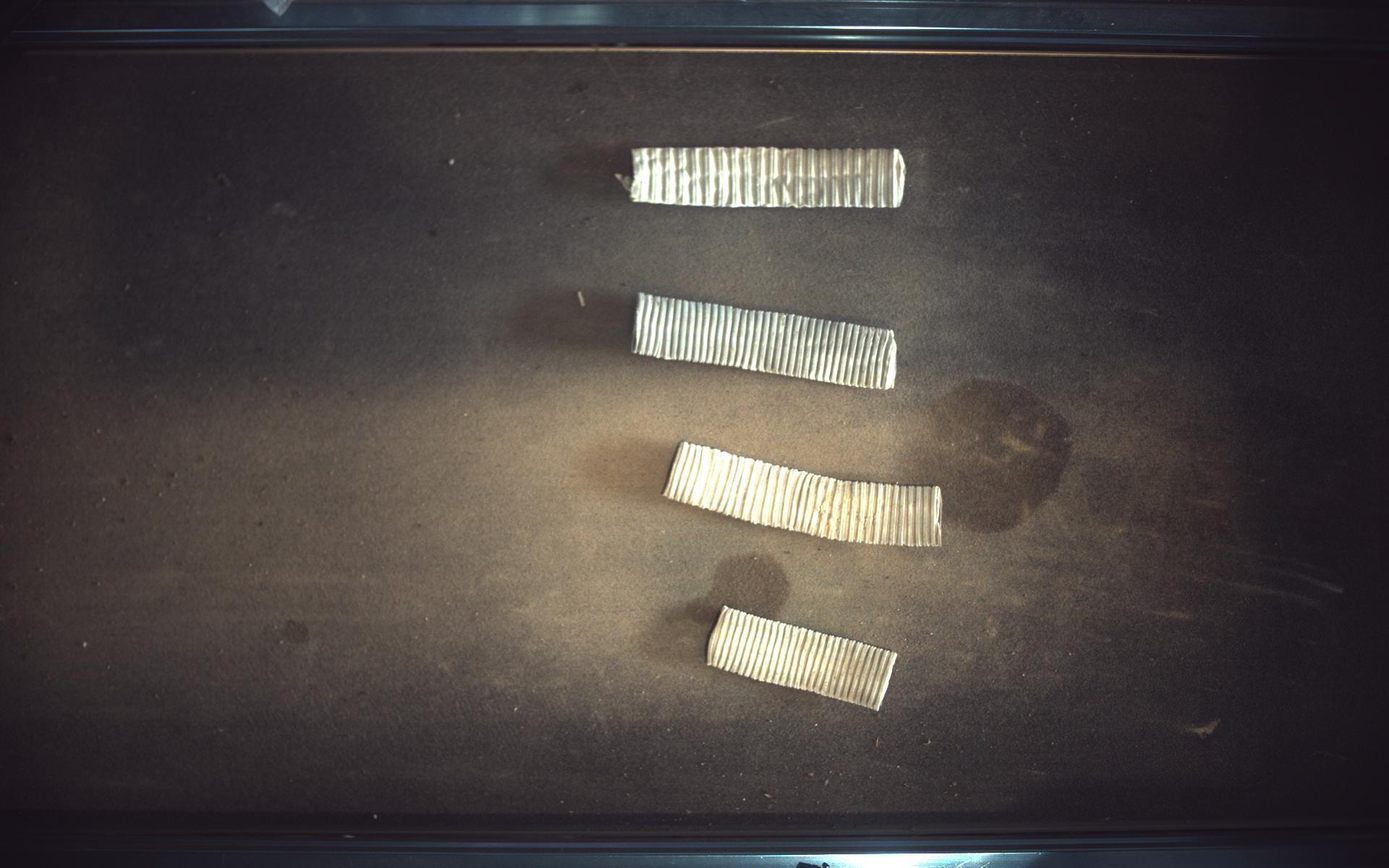pipes: (665, 442, 944, 547), (632, 292, 899, 389), (708, 606, 899, 712), (630, 146, 907, 207)
